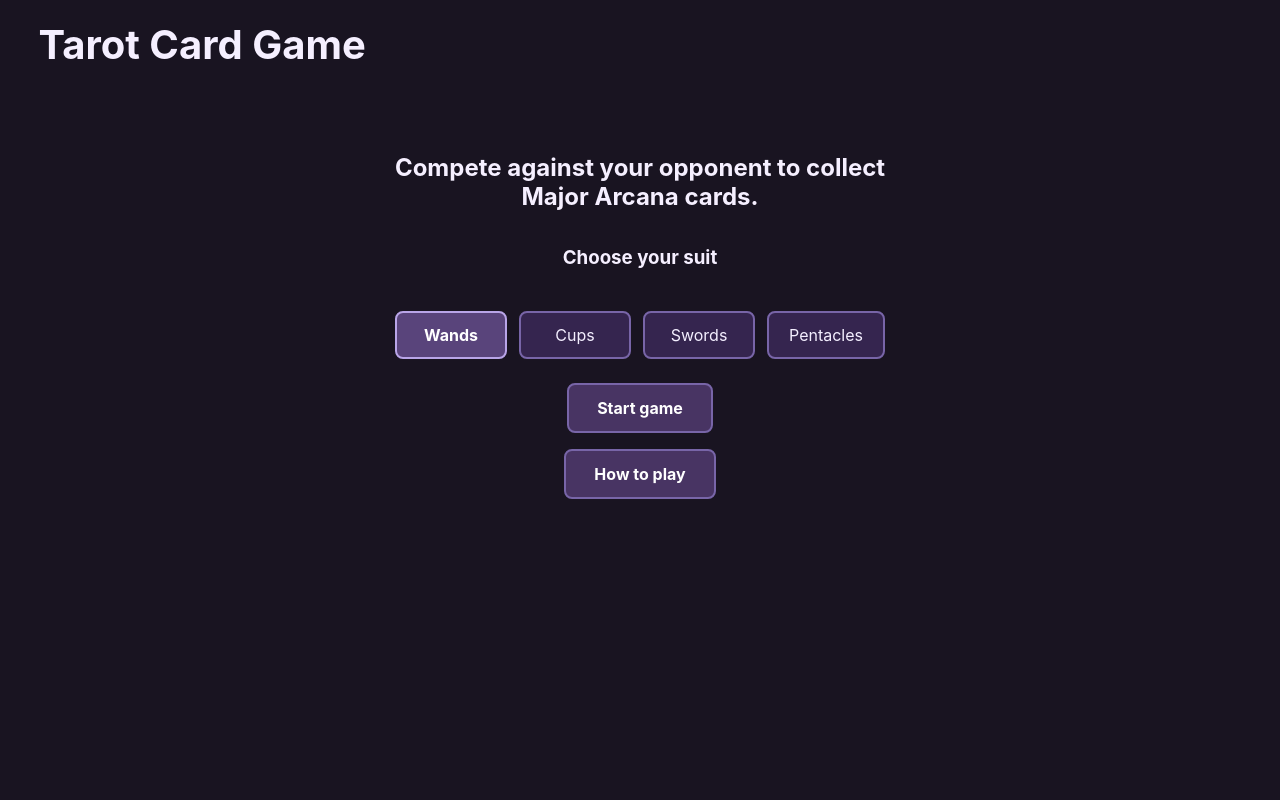
App › shows the game results when the game is over
Click the button "Wands": (451, 335) [395,311,507,359]
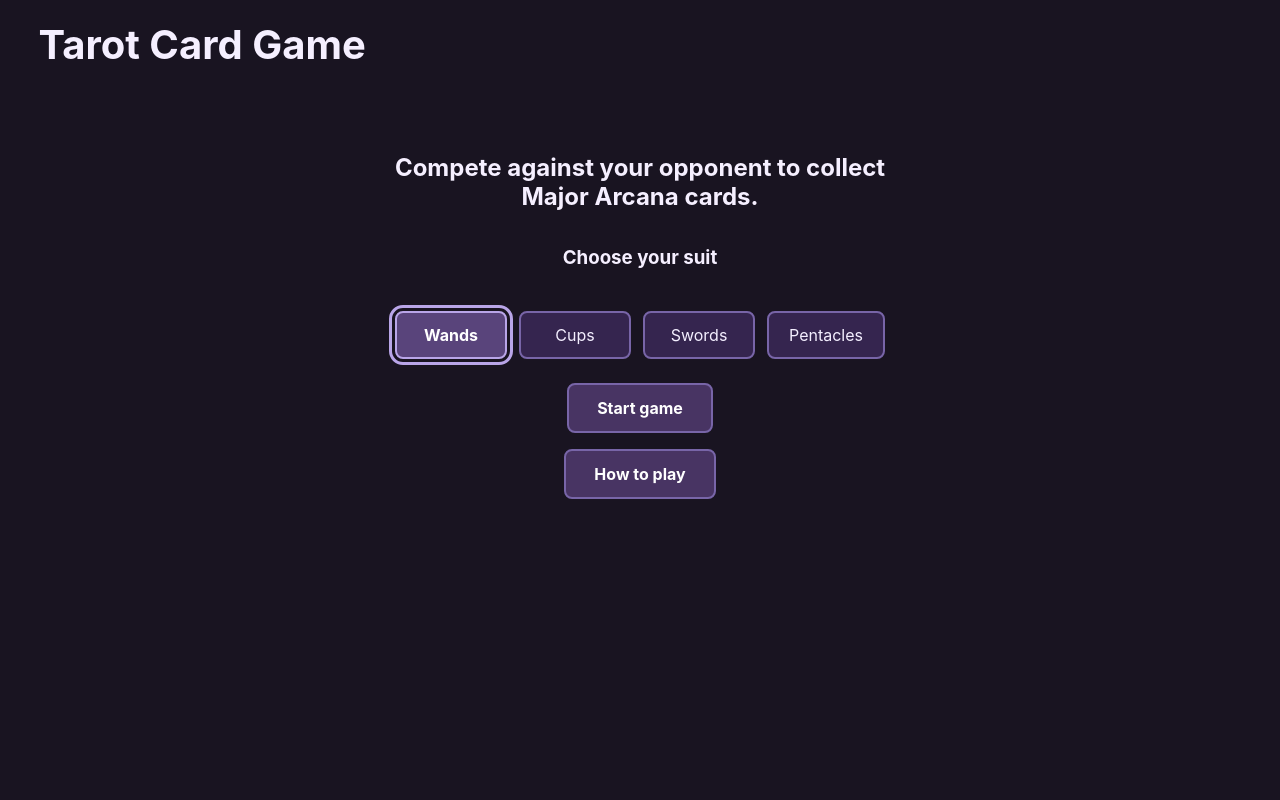
Click the button "Start game": (640, 408) [567,383,713,433]
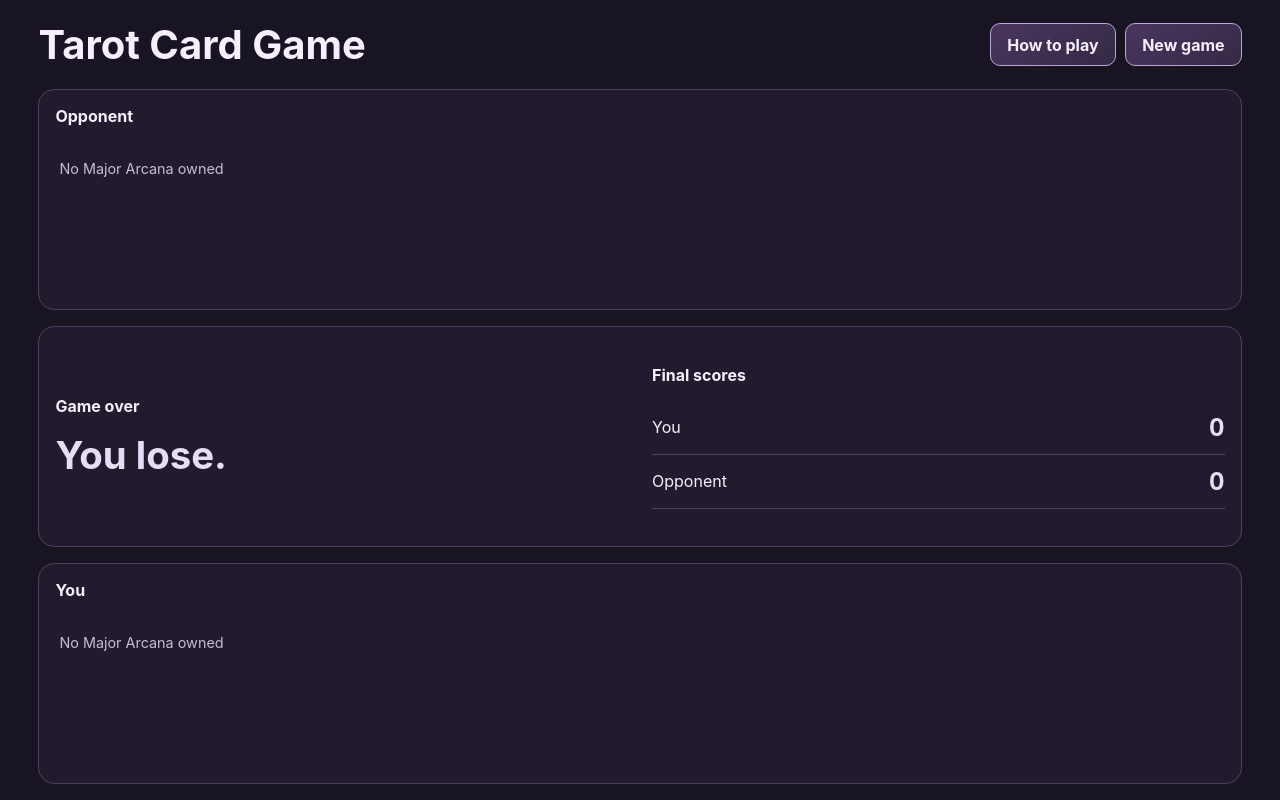
Now the element named "Game results" is shown, box [38,326,1242,547]
